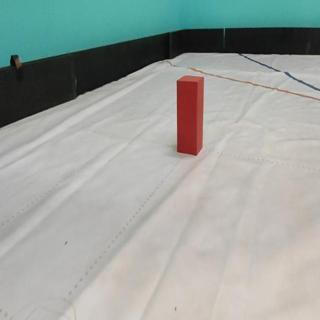redbox: (175, 73, 204, 156)
